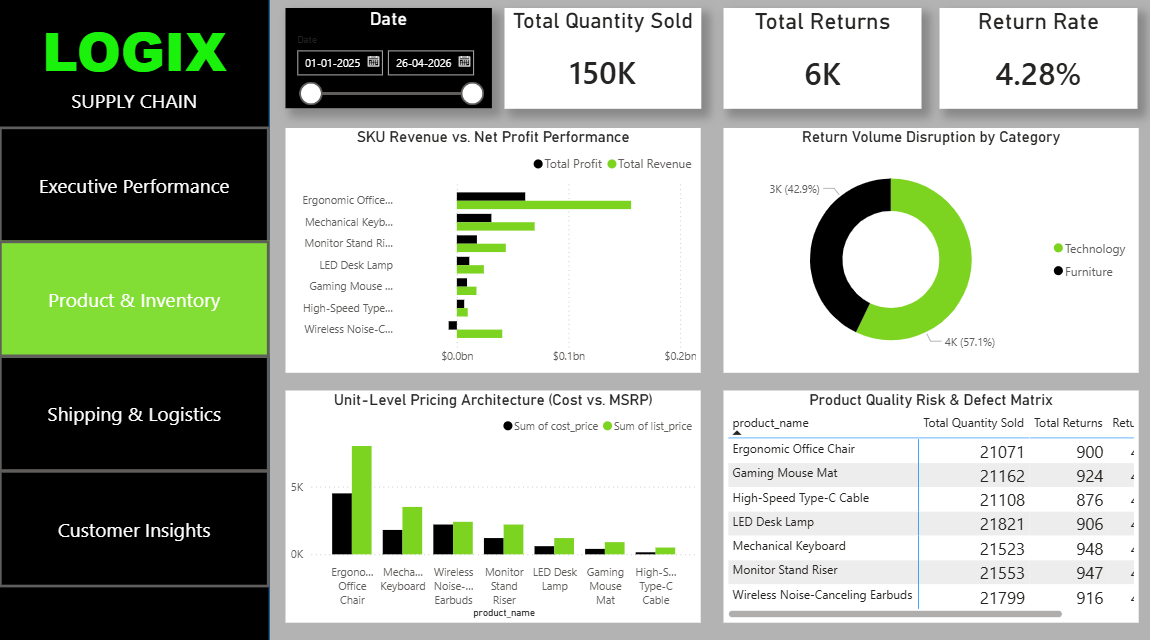

This screenshot's page, from the dashboard's own definition file:
{"tool":"powerbi","page":{"name":"Product & Inventory","canvas":[1280,720],"ordinal":1},"visuals":[{"type":"slicer","title":"Date","fields":{"Values":["Calendar.Date"]},"box":[318.1,12.7,229,111.3],"z":0},{"type":"shape","box":[0,0,300.6,720.5],"z":1000,"group":"g1"},{"type":"cardVisual","title":"Total Quantity Sold","fields":{"Data":["_Measures.Total Quantity Sold"]},"box":[561.9,13,218.6,111.7],"z":1000},{"type":"cardVisual","title":"Total Returns","fields":{"Data":["_Measures.Total Returns"]},"box":[804.8,13,220.2,111.7],"z":2000},{"type":"actionButton","box":[0,144.7,300.6,130.4],"z":2000,"group":"g1"},{"type":"cardVisual","title":"Return Rate","fields":{"Data":["_Measures.Return Rate"]},"box":[1044.4,13,220.2,111.7],"z":3000},{"type":"actionButton","box":[0,272,300.6,130.4],"z":3000,"group":"g1"},{"type":"clusteredBarChart","title":"SKU Revenue vs. Net Profit Performance","fields":{"Category":["products.product_name"],"Y":["_Measures.Total Profit","_Measures.Total Revenue"]},"box":[318.1,146.3,461.3,272],"z":4000},{"type":"actionButton","box":[0,399,300.6,130.4],"z":4000,"group":"g1"},{"type":"donutChart","title":"Return Volume Disruption by Category","fields":{"Category":["products.category"],"Y":["_Measures.Total Returns"]},"box":[804.8,146.3,461.3,272],"z":5000},{"type":"actionButton","box":[0,527,300.6,130.4],"z":5000,"group":"g1"},{"type":"clusteredColumnChart","title":"Unit-Level Pricing Architecture (Cost vs. MSRP)","fields":{"Category":["products.product_name"],"Y":["Sum(products.cost_price)","Sum(products.list_price)"]},"box":[318.1,439,461.3,257.7],"z":6000},{"type":"pivotTable","title":"Product Quality Risk & Defect Matrix","fields":{"Rows":["products.product_name"],"Values":["_Measures.Total Quantity Sold","_Measures.Total Returns","_Measures.Return Rate"]},"box":[804.8,439,461.3,257.7],"z":7000},{"type":"group","id":"g1","title":"Group 1","box":[0,0,300.6,720.5],"z":8000},{"type":"textbox","title":"LOGIX SUPPLY CHAIN","box":[0,0,300.6,144.7],"z":9000,"group":"g1"}]}

Visuals, with their boxes in screenshot pixels (x1, y1, x2, y2), scaled from the page's 1280x720 canvas onto the 1150x640 screenshot:
"Date" slicer: box=[286, 11, 492, 110]
shape: box=[0, 0, 270, 639]
"Total Quantity Sold" cardVisual: box=[505, 12, 701, 111]
"Total Returns" cardVisual: box=[723, 12, 921, 111]
actionButton: box=[0, 129, 270, 245]
"Return Rate" cardVisual: box=[938, 12, 1136, 111]
actionButton: box=[0, 242, 270, 358]
"SKU Revenue vs. Net Profit Performance" clusteredBarChart: box=[286, 130, 700, 372]
actionButton: box=[0, 355, 270, 471]
"Return Volume Disruption by Category" donutChart: box=[723, 130, 1138, 372]
actionButton: box=[0, 468, 270, 584]
"Unit-Level Pricing Architecture (Cost vs. MSRP)" clusteredColumnChart: box=[286, 390, 700, 619]
"Product Quality Risk & Defect Matrix" pivotTable: box=[723, 390, 1138, 619]
"Group 1" group: box=[0, 0, 270, 639]
"LOGIX SUPPLY CHAIN" textbox: box=[0, 0, 270, 129]
